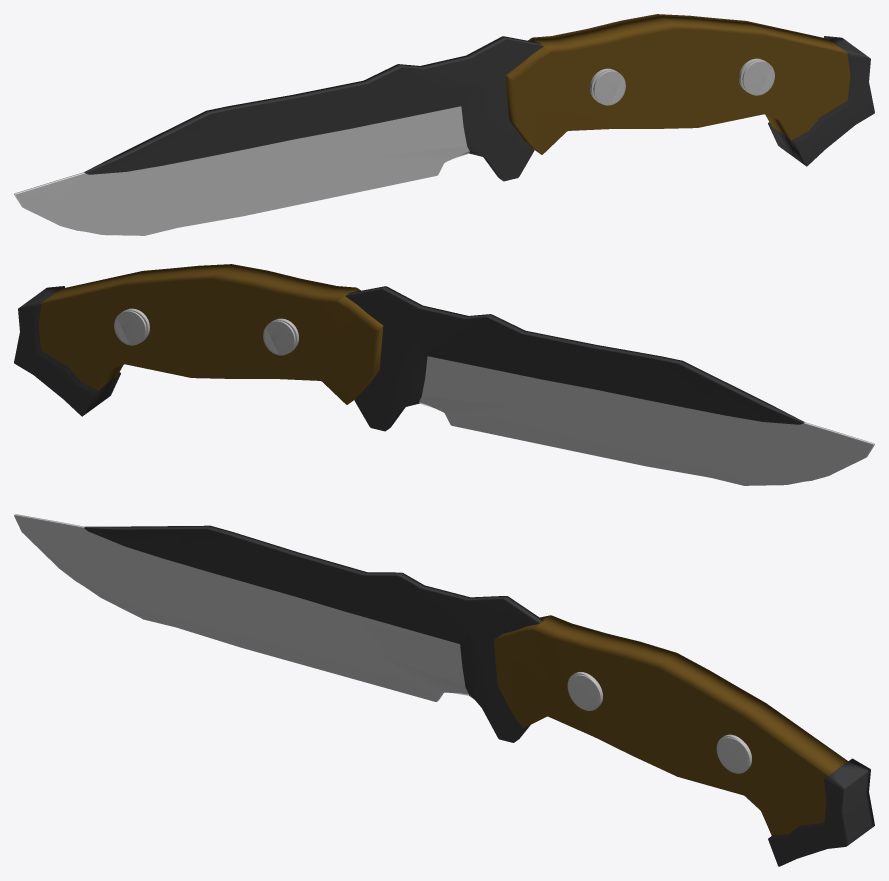
The model's file is Knife.fbx.
3 views of the same model, one above another, from view 1: azimuth 30°, elevation 25°; view 2: azimuth 150°, elevation 25°; view 3: azimuth 330°, elevation 25° (orthographic).
Visible parts, largest first — view 1: Cube.001; view 2: Cube.001; view 3: Cube.001.
Boxes of the visible parts, x1=… form: Cube.001: x1=14, y1=14, x2=874, y2=235; Cube.001: x1=14, y1=264, x2=874, y2=485; Cube.001: x1=14, y1=514, x2=874, y2=866.
Bounding box in the file's own units: 374 × 79.6 × 21.43.
